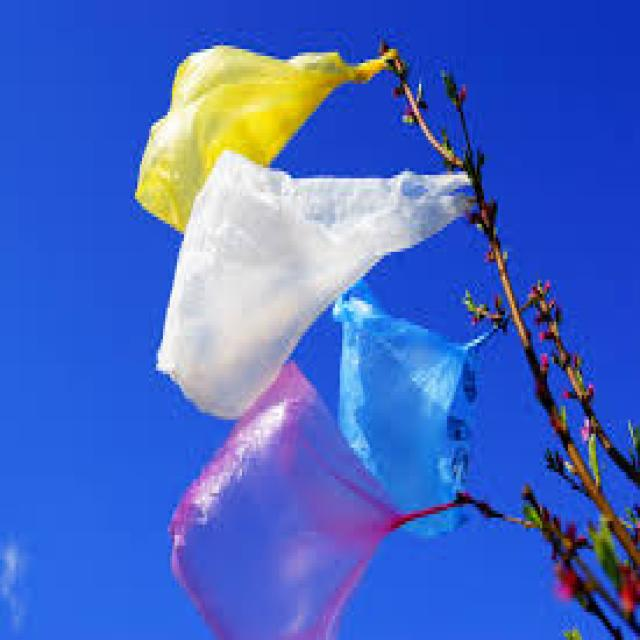plastic: (149, 144, 472, 417), (172, 357, 463, 637), (131, 42, 394, 234), (333, 273, 493, 539)
